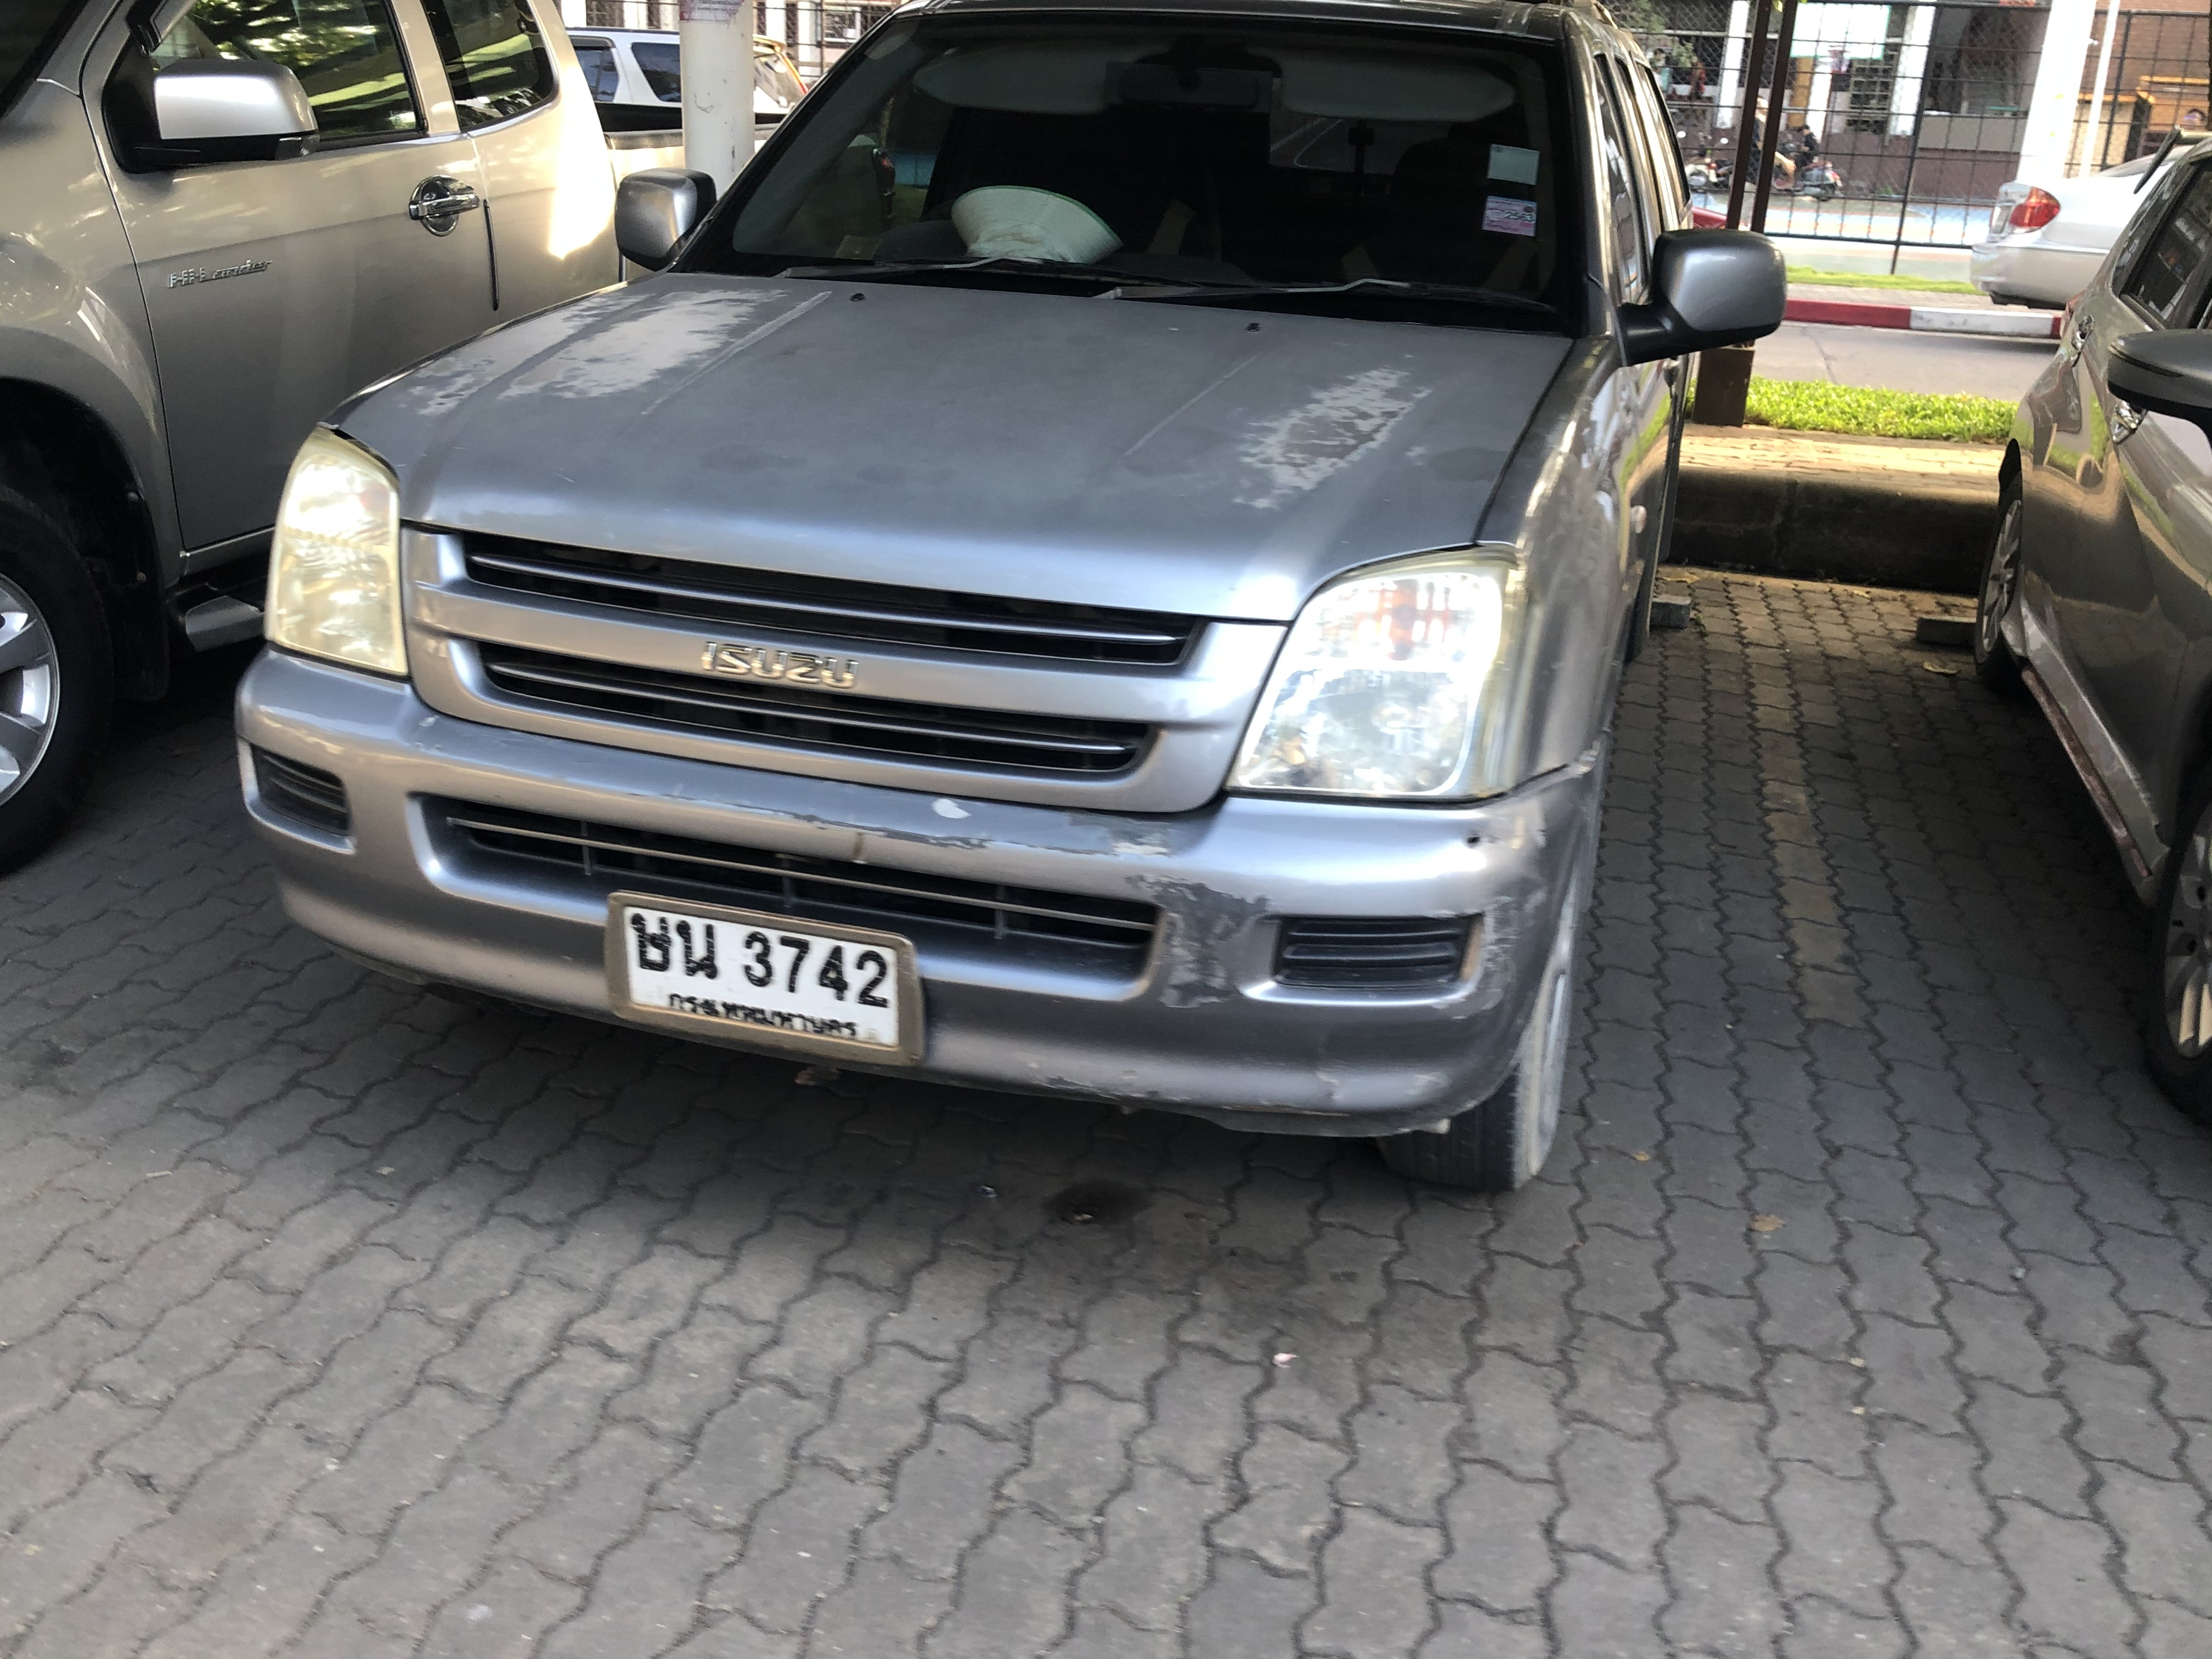in: (625, 903, 902, 1054)
out: (604, 887, 930, 1072)
